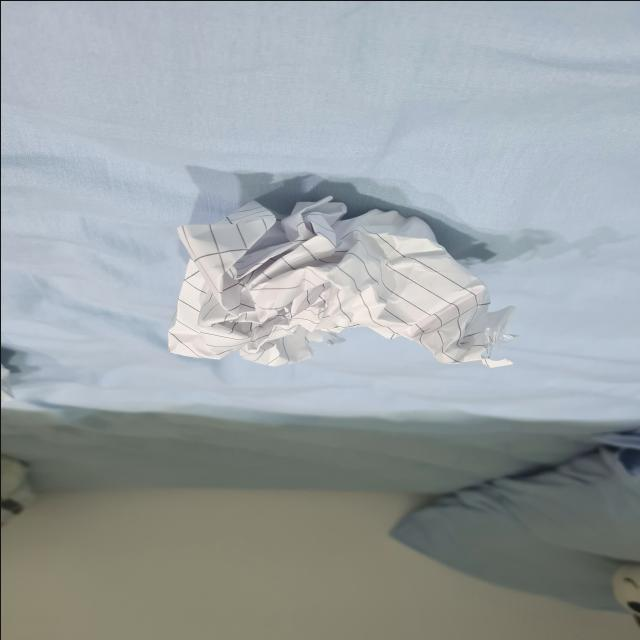Paper: (140, 175, 532, 395)
